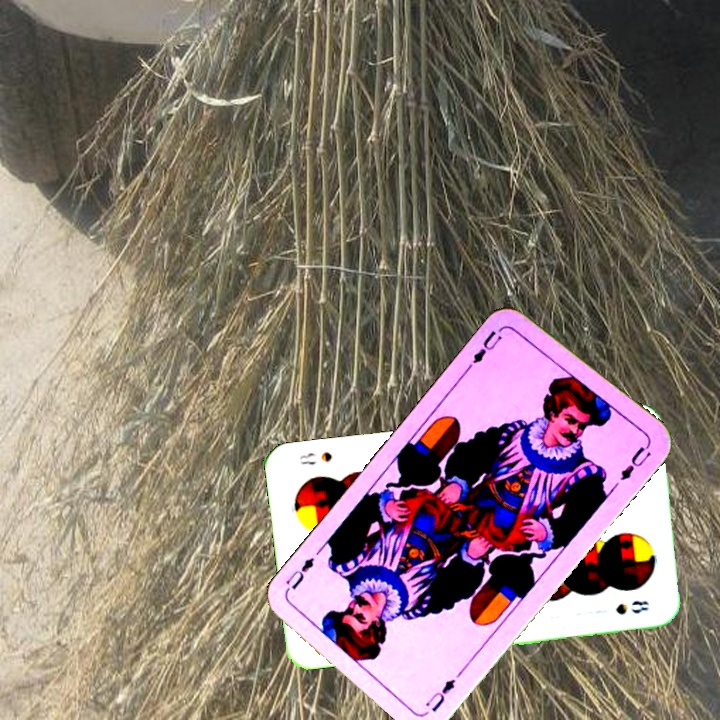EU: (463, 323, 507, 371), (421, 674, 458, 715)
